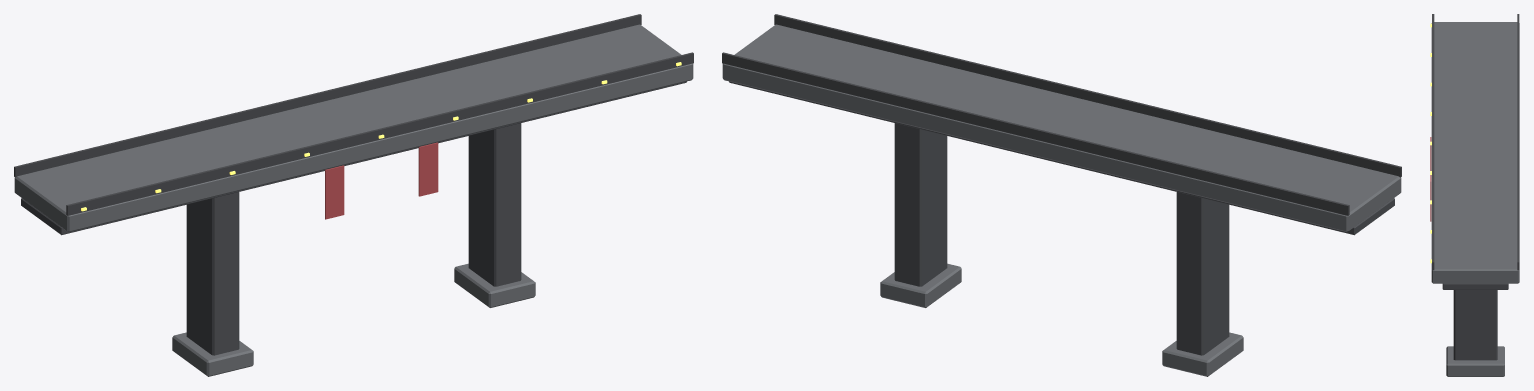
File: heatsinkOverpass.c6bb161f.glb
3 views of the same model, side by side, from view 1: azimuth 30°, elevation 25°; view 2: azimuth 150°, elevation 25°; view 3: azimuth 270°, elevation 25° (orthographic). The views are drawn at different scales.
Visible parts, largest first — view 1: overpass; view 2: overpass; view 3: overpass.
Part boxes in pixels (<box>): overpass: <box>14,14,693,376</box>; overpass: <box>722,14,1401,376</box>; overpass: <box>1430,14,1519,376</box>.
Size of the model in its own units: 80 by 26.2 by 12.2.
